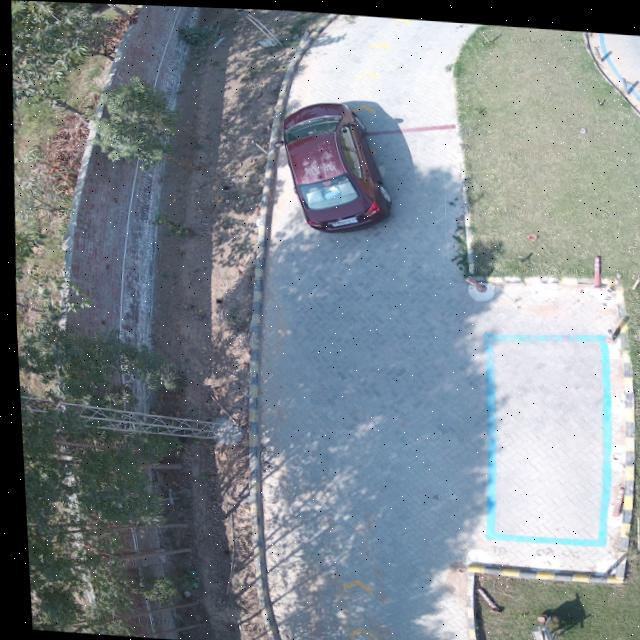car: (279, 99, 389, 229)
